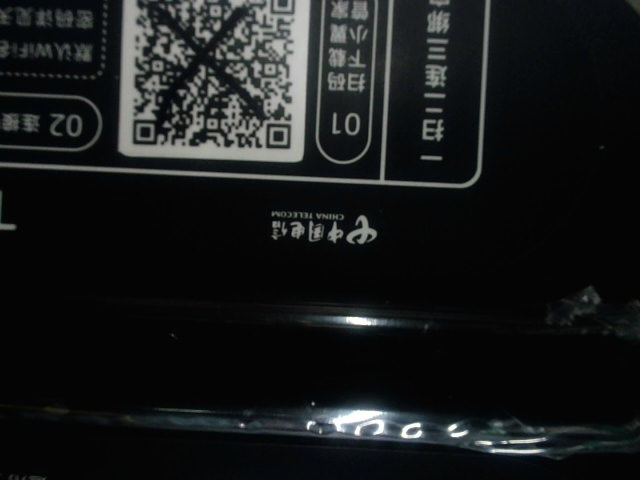AB_ChinaTelecom: (260, 203, 383, 252)
